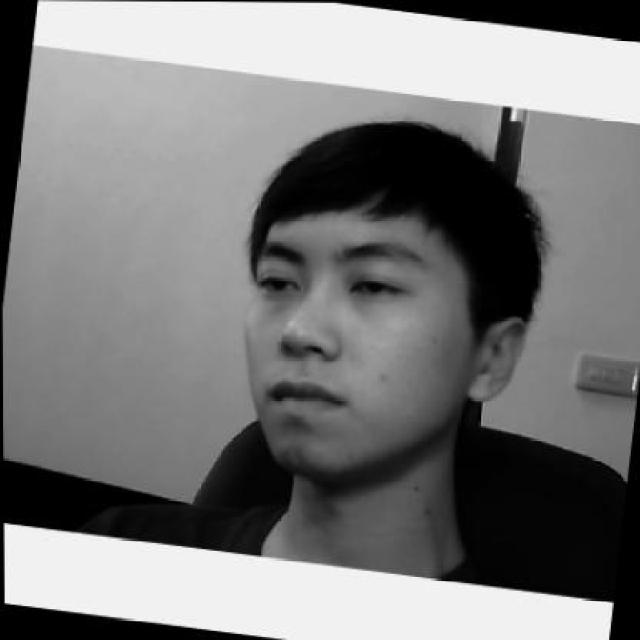inattentif: (220, 98, 552, 500)
